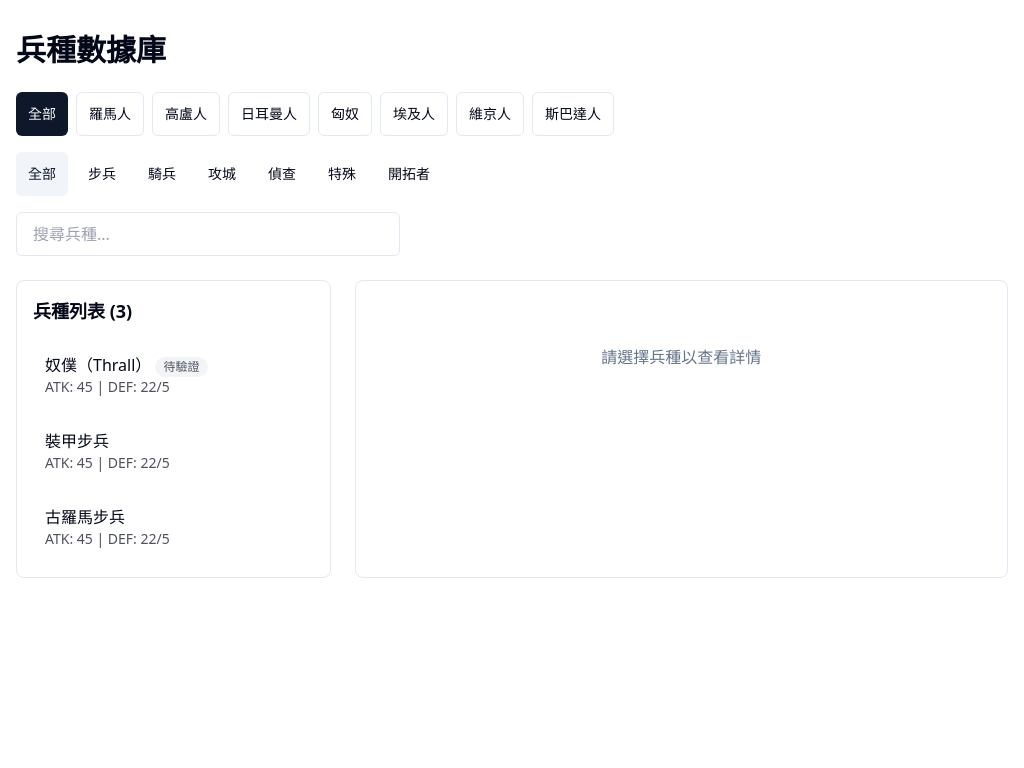
Scenario: TroopsPage: Viking carry capacity is 待驗證 › 古羅馬步兵 (ts11 / ASIA x1): carry number, no carry chip
This screenshot has width=1024, height=768.
Click the text "古羅馬步兵".
click(85, 517)  # box [45,506,125,528]
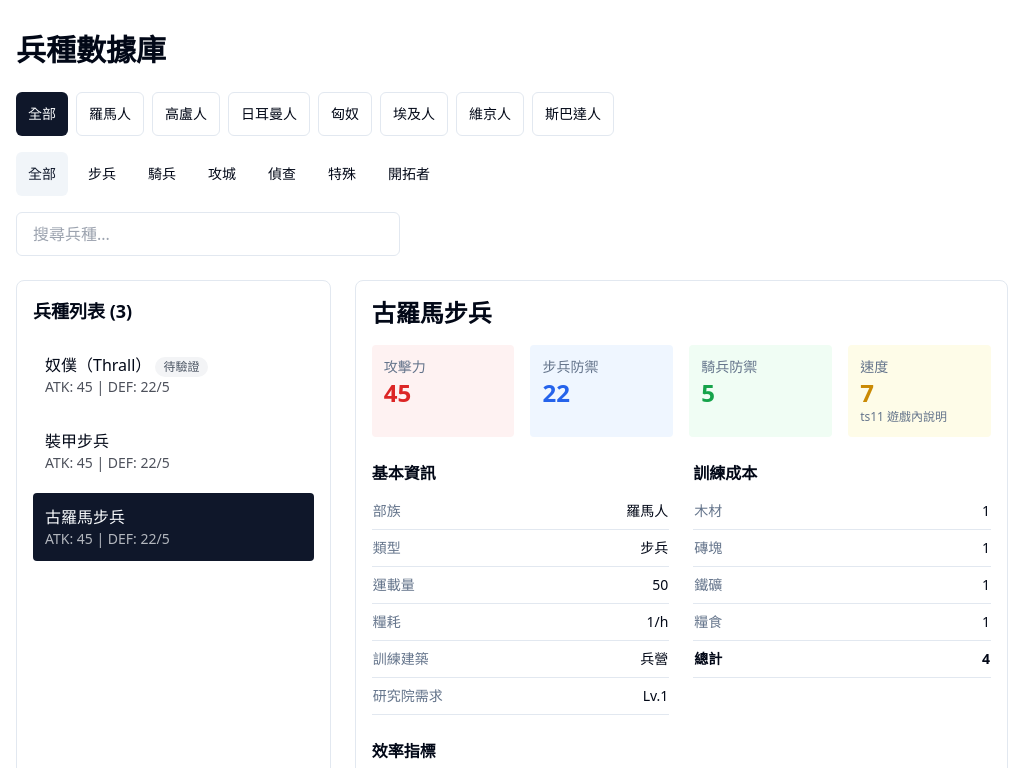
Now the cell with test id "troop-carry" reads "50", box [652,575,668,594]
